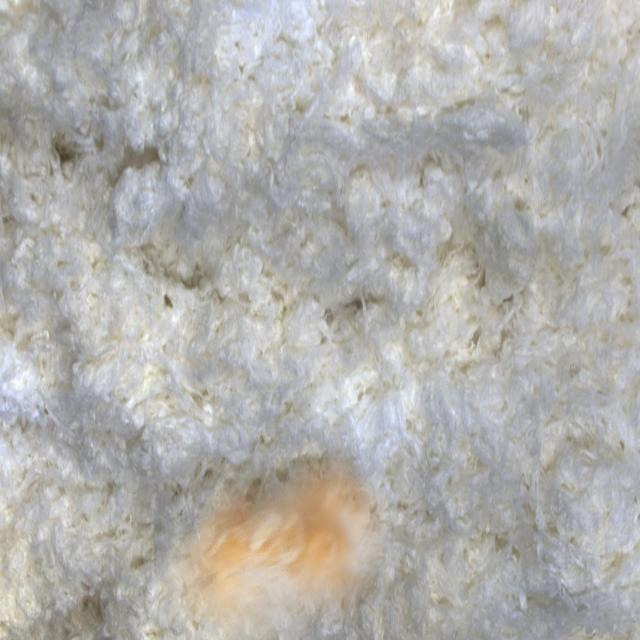dust: (154, 457, 386, 640)
